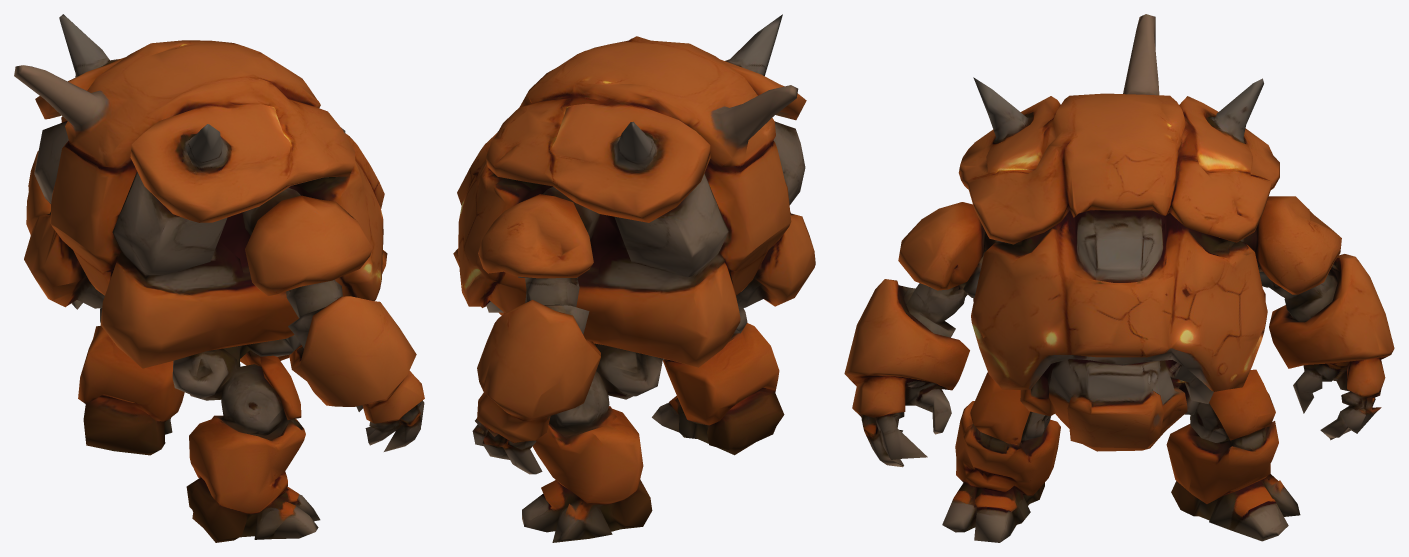
Rendered from 291f76e5-fc04-4b84-bab8-1c322d970adb-pbr-model.glb.
The picture shows the model from 3 angles, left to right: view 1: azimuth 30°, elevation 25°; view 2: azimuth 150°, elevation 25°; view 3: azimuth 270°, elevation 25°; orthographic projection. The views are drawn at different scales.
Visible parts, largest first — view 1: tripo_node_291f76e5-fc04-4b84-bab8-1c322d970adb; view 2: tripo_node_291f76e5-fc04-4b84-bab8-1c322d970adb; view 3: tripo_node_291f76e5-fc04-4b84-bab8-1c322d970adb.
Boxes of the visible parts, x1,y1,x2,y2 form: tripo_node_291f76e5-fc04-4b84-bab8-1c322d970adb: (14, 14, 424, 542); tripo_node_291f76e5-fc04-4b84-bab8-1c322d970adb: (453, 14, 815, 542); tripo_node_291f76e5-fc04-4b84-bab8-1c322d970adb: (844, 14, 1394, 542).
Size of the model in its own units: 0.6991 by 0.8593 by 1.
1 material, 1 textured.
